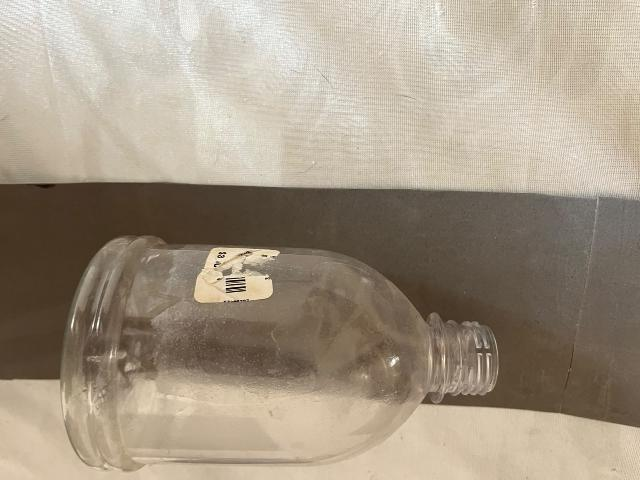PET: (0, 204, 556, 480)
